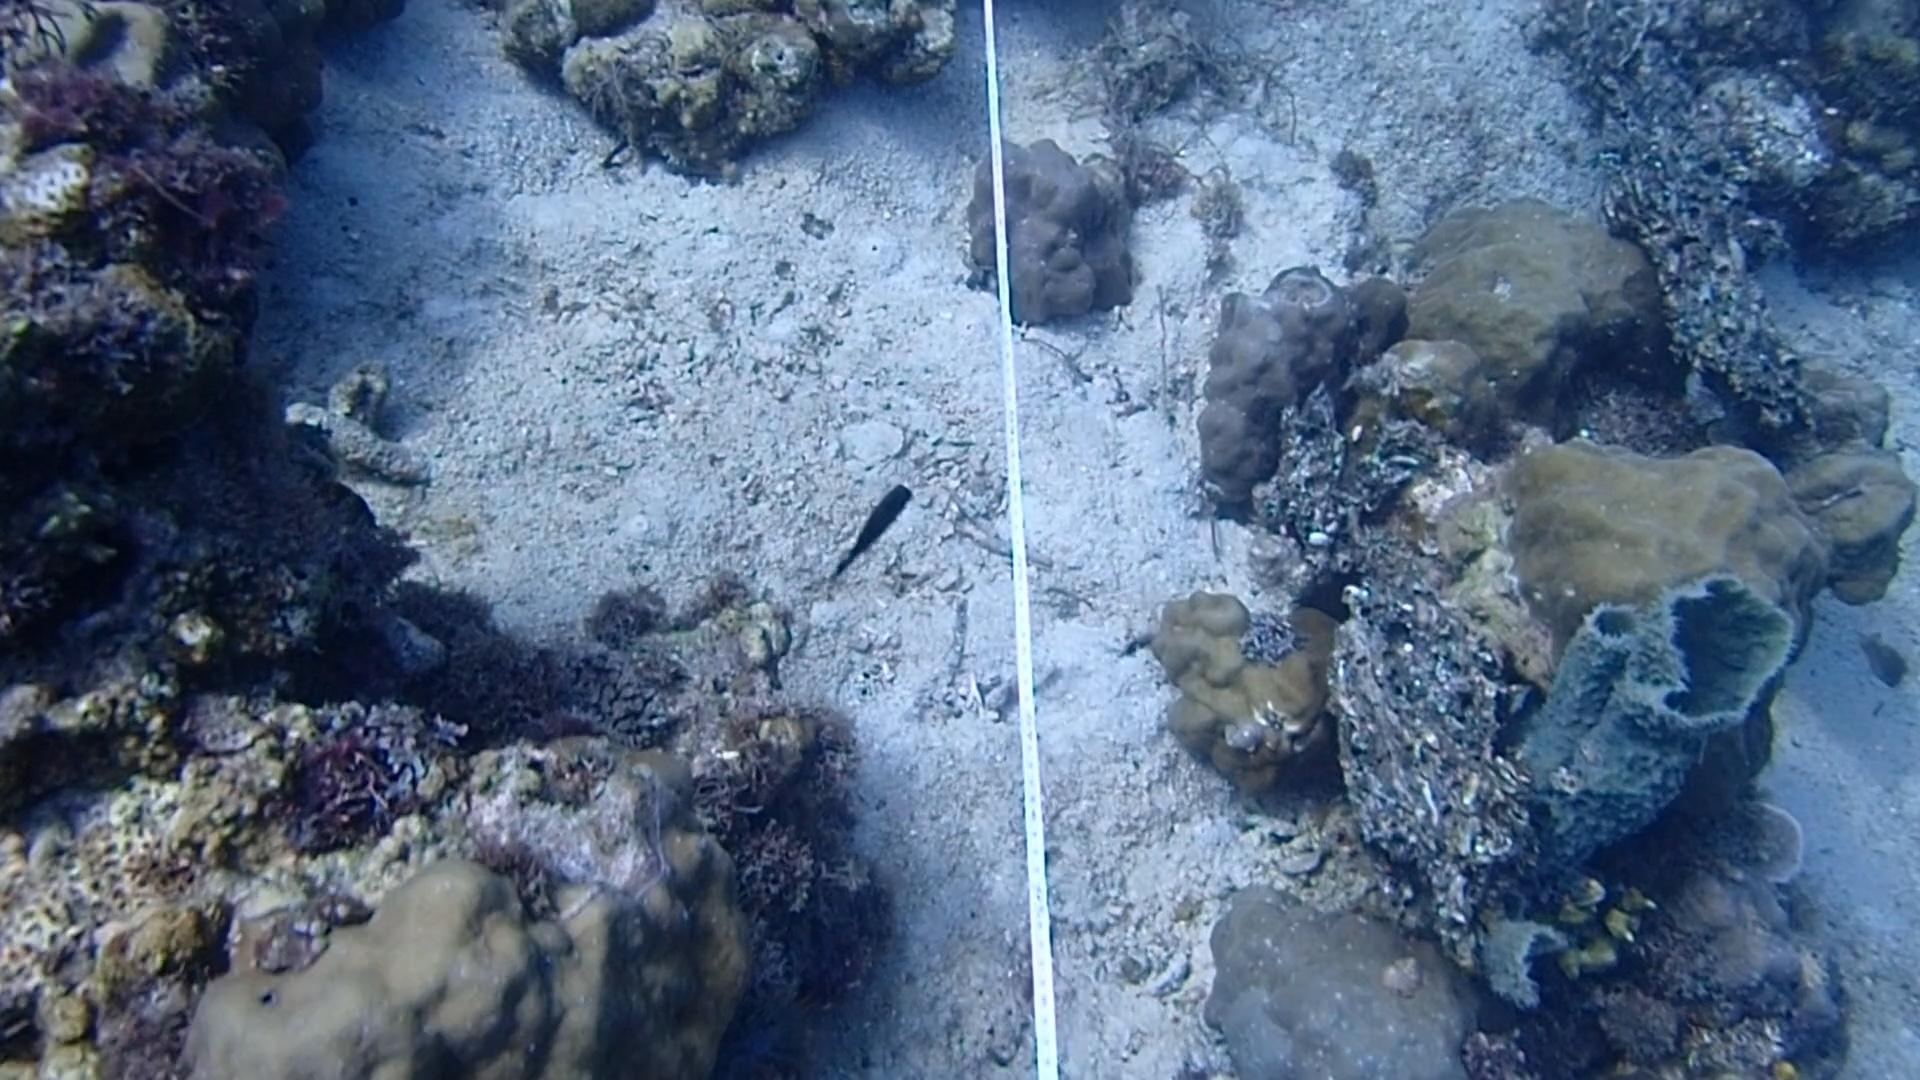Dark Fish: (807, 475, 932, 584)
